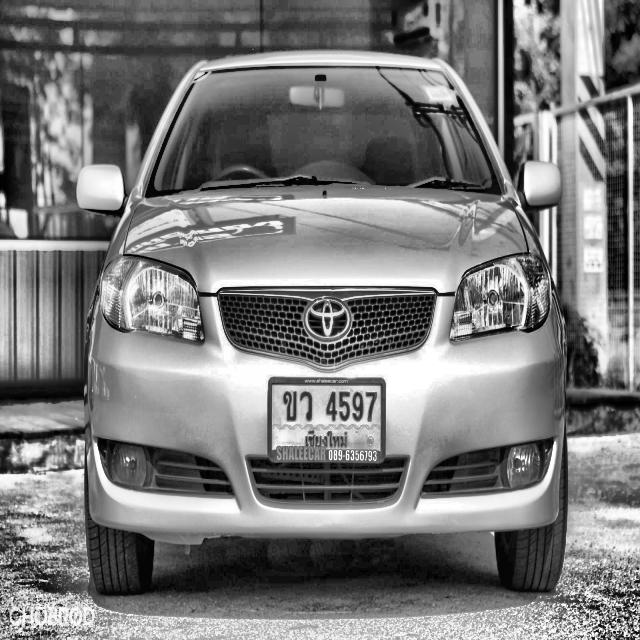license-plate: (266, 367, 387, 477)
